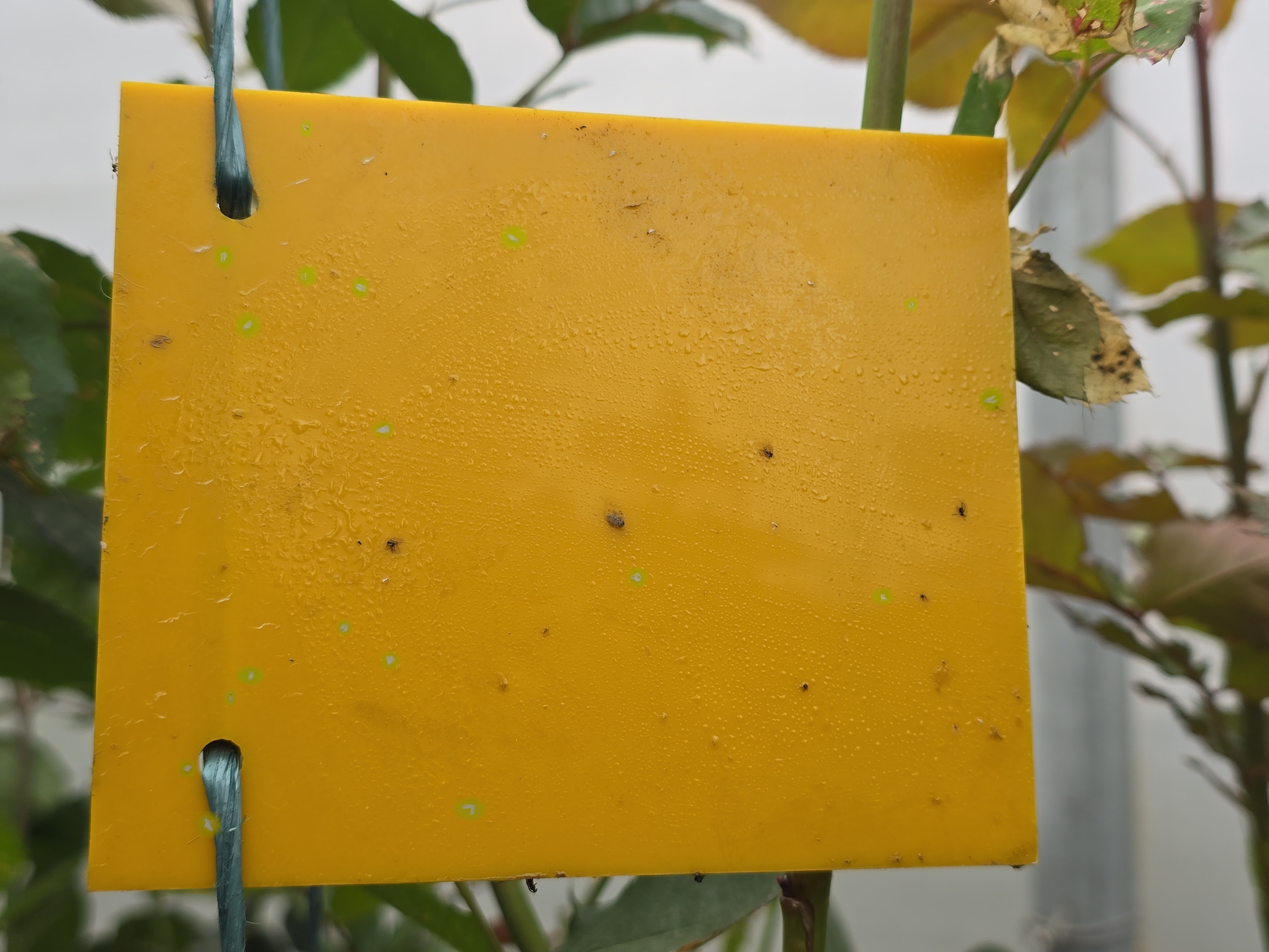WF: (458, 800, 482, 817), (238, 316, 257, 335), (503, 228, 523, 246), (982, 390, 1001, 408), (200, 815, 218, 834), (240, 668, 260, 682), (216, 248, 231, 266), (629, 570, 645, 585), (299, 268, 314, 283), (383, 653, 397, 668), (353, 279, 366, 295), (375, 422, 391, 435), (874, 590, 891, 602), (181, 761, 193, 775), (338, 621, 350, 633), (301, 122, 311, 135), (100, 540, 110, 552), (906, 299, 916, 310), (609, 149, 620, 158), (226, 692, 234, 703), (647, 228, 656, 236), (541, 133, 550, 140)
